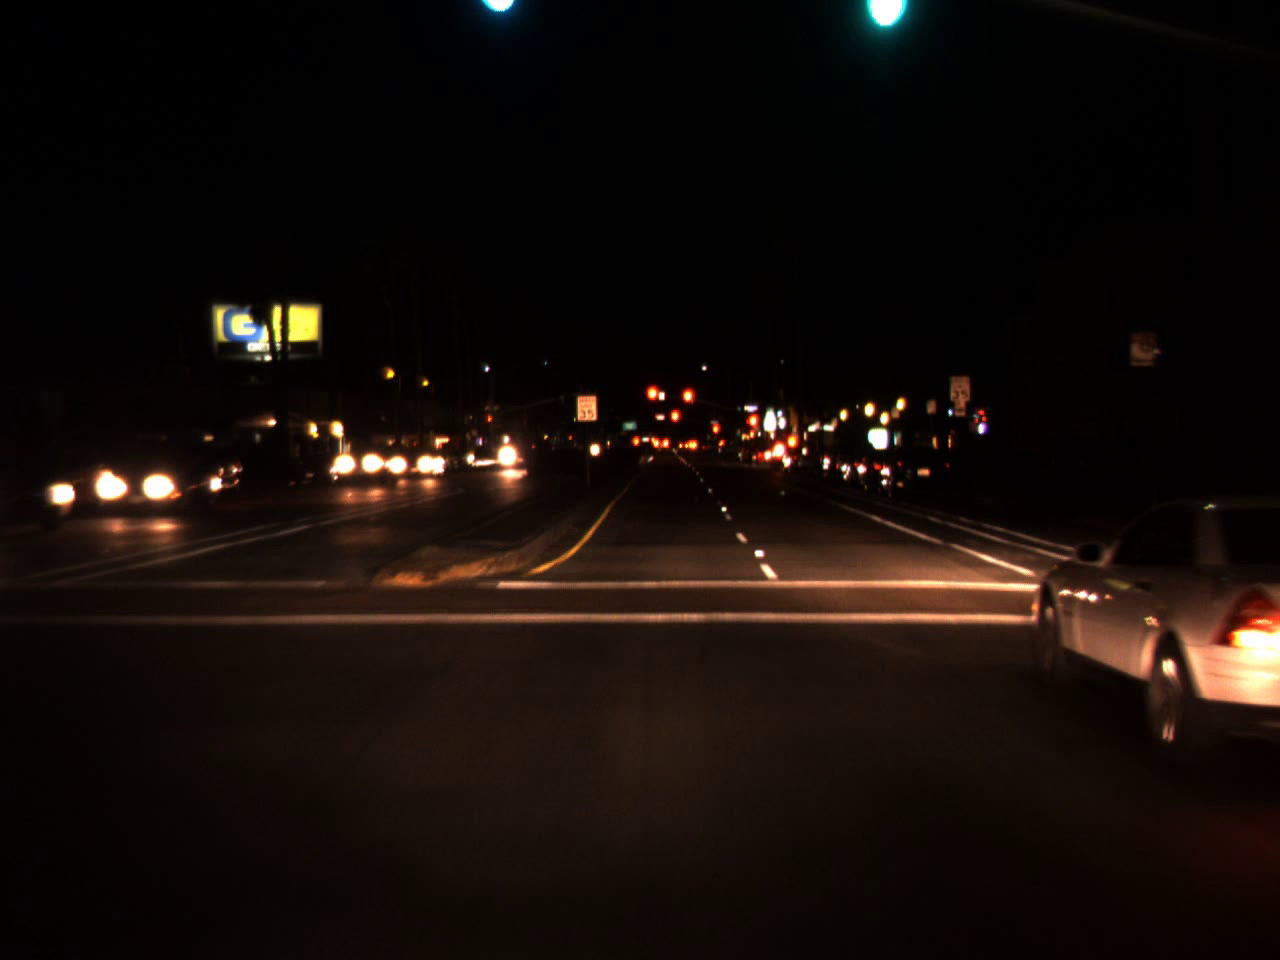go: (860, 0, 903, 44)
stop: (645, 382, 663, 419), (744, 410, 760, 447), (680, 387, 695, 419), (668, 407, 681, 439), (711, 421, 720, 448), (487, 414, 493, 427)
